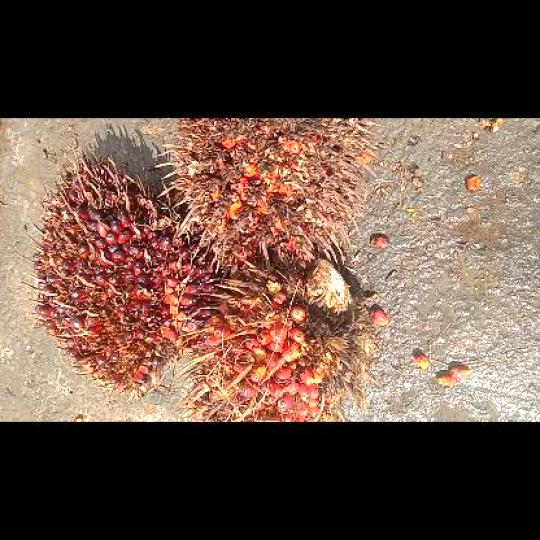masak: (22, 148, 219, 400), (175, 258, 381, 420)
terlalu masak: (154, 117, 378, 272)
